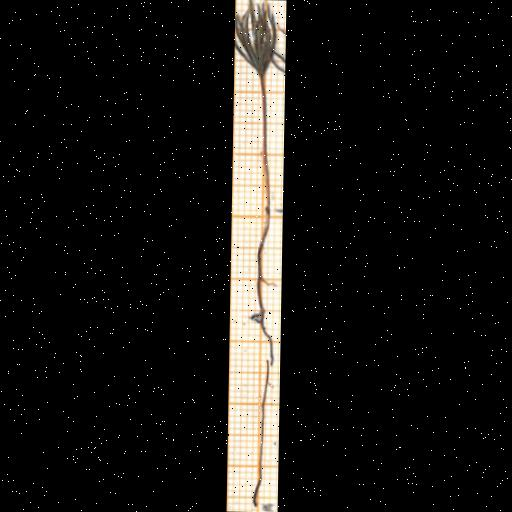flowerPinus: (234, 0, 277, 77)
rootPinus: (252, 217, 275, 365)
stemPinus: (260, 75, 270, 213)
